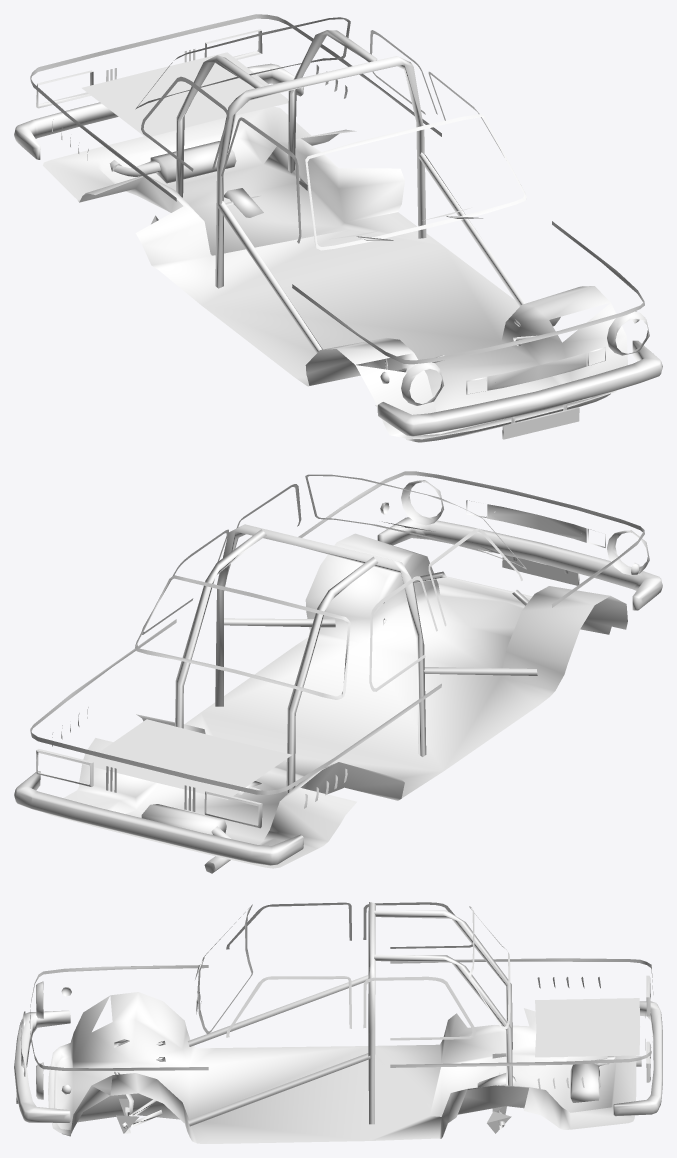
3 renders of one model, top to bottom at view 1: azimuth 30°, elevation 25°; view 2: azimuth 150°, elevation 25°; view 3: azimuth 270°, elevation 25°, orthographic. The views are drawn at different scales.
Bounding box in the file's own units: 1.44 × 1.09 × 3.75.
1 material, 1 textured.
